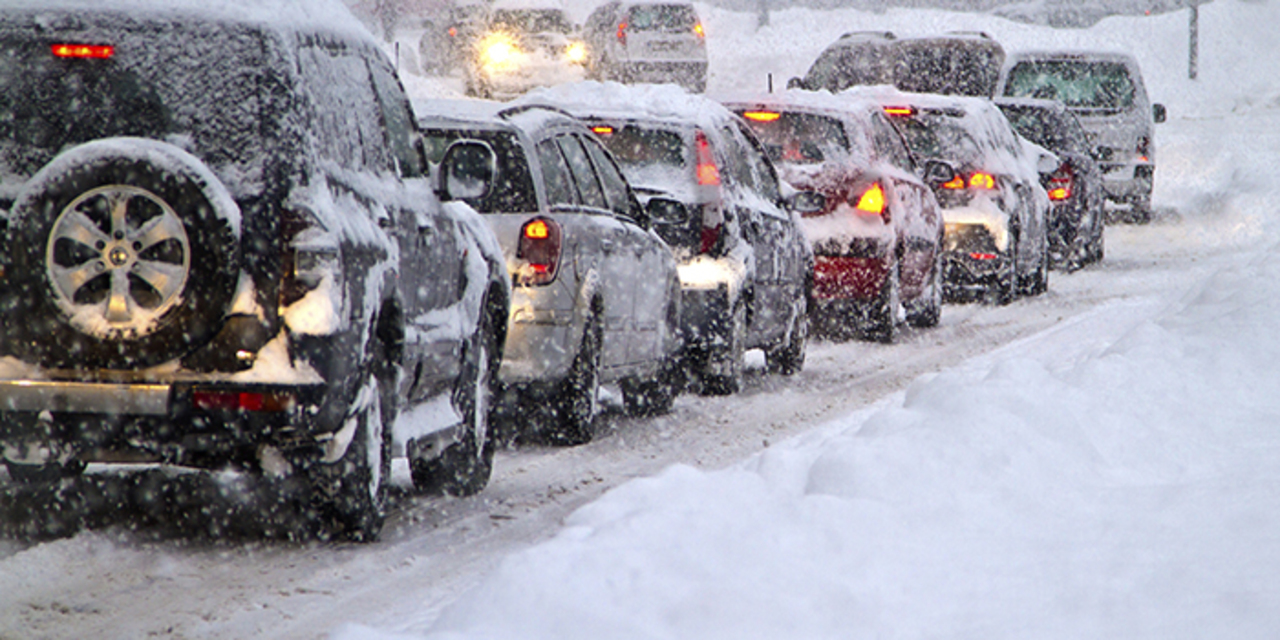car: (7, 14, 503, 532), (415, 104, 687, 451), (526, 87, 803, 391), (789, 78, 1052, 309), (723, 91, 961, 338), (991, 55, 1160, 237), (1025, 98, 1100, 272), (585, 0, 712, 89), (471, 10, 585, 85)
